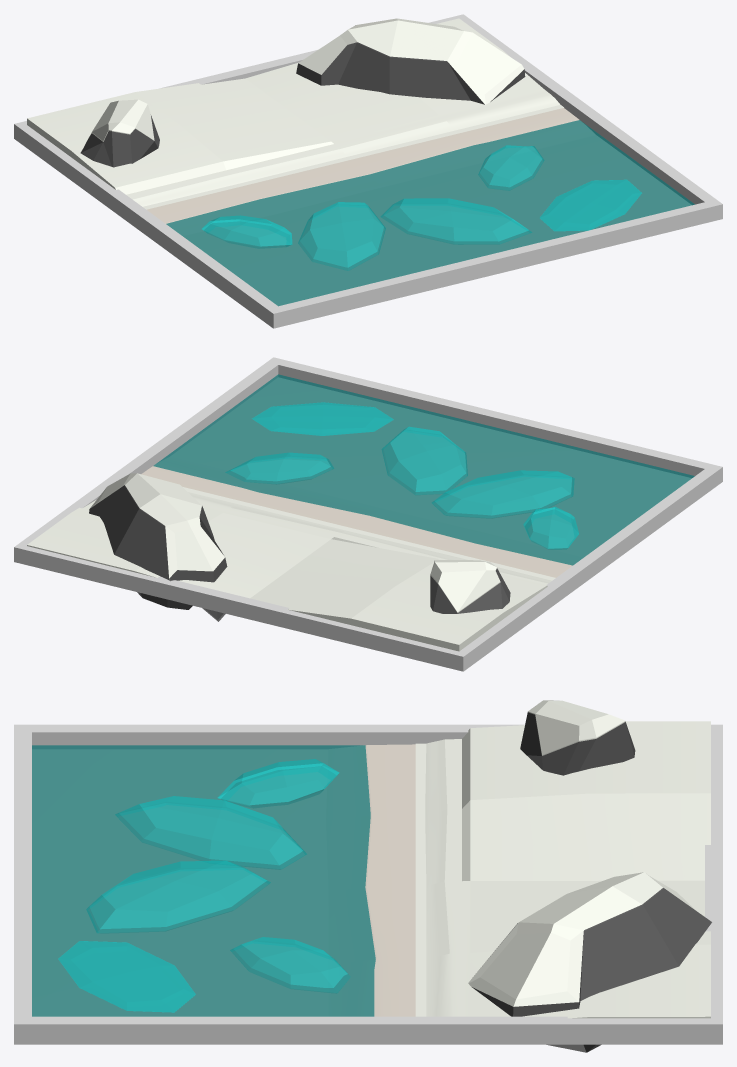
Rendered from Animal Habitat Polar Base.ice blend.fbx.
3 views of the same model, one above another, from view 1: azimuth 30°, elevation 25°; view 2: azimuth 150°, elevation 25°; view 3: azimuth 270°, elevation 25° (orthographic). The views are drawn at different scales.
Parts seen in each view (by area): view 1: Cube.001, Cube.002, Cube.003, Cube, Cube.010, Cube.004, Cube.005, Cube.009, Cube.008, Cube.006, Cube.007; view 2: Cube.002, Cube.001, Cube.003, Cube, Cube.010, Cube.005, Cube.004, Cube.009, Cube.008, Cube.007, Cube.006; view 3: Cube.001, Cube.002, Cube.003, Cube, Cube.010, Cube.005, Cube.004, Cube.008, Cube.009, Cube.006, Cube.007.
Boxes of the visible parts, bbox=[...] form: Cube.001: bbox=[147, 108, 690, 305]; Cube.002: bbox=[166, 120, 694, 306]; Cube.003: bbox=[27, 18, 563, 209]; Cube: bbox=[14, 14, 722, 328]; Cube.010: bbox=[296, 18, 525, 104]; Cube.004: bbox=[381, 198, 531, 241]; Cube.005: bbox=[298, 202, 385, 267]; Cube.009: bbox=[80, 99, 159, 167]; Cube.008: bbox=[540, 179, 641, 231]; Cube.006: bbox=[202, 215, 292, 247]; Cube.007: bbox=[479, 145, 543, 187]; Cube.002: bbox=[153, 374, 694, 565]; Cube.001: bbox=[141, 377, 691, 577]; Cube.003: bbox=[27, 487, 555, 651]; Cube: bbox=[14, 357, 722, 671]; Cube.010: bbox=[89, 473, 227, 621]; Cube.005: bbox=[432, 470, 573, 515]; Cube.004: bbox=[382, 426, 467, 491]; Cube.009: bbox=[430, 560, 510, 613]; Cube.008: bbox=[252, 402, 393, 435]; Cube.007: bbox=[226, 452, 333, 481]; Cube.006: bbox=[523, 507, 578, 548]; Cube.001: bbox=[32, 744, 415, 1016]; Cube.002: bbox=[32, 745, 375, 1016]; Cube.003: bbox=[415, 721, 710, 1018]; Cube: bbox=[14, 724, 722, 1044]; Cube.010: bbox=[468, 872, 711, 1052]; Cube.005: bbox=[116, 796, 305, 865]; Cube.004: bbox=[87, 860, 269, 932]; Cube.008: bbox=[58, 941, 195, 1012]; Cube.009: bbox=[520, 700, 635, 775]; Cube.006: bbox=[217, 759, 339, 806]; Cube.007: bbox=[230, 937, 347, 987].
Size of the model in its own units: 6000 by 1377 by 6000.
